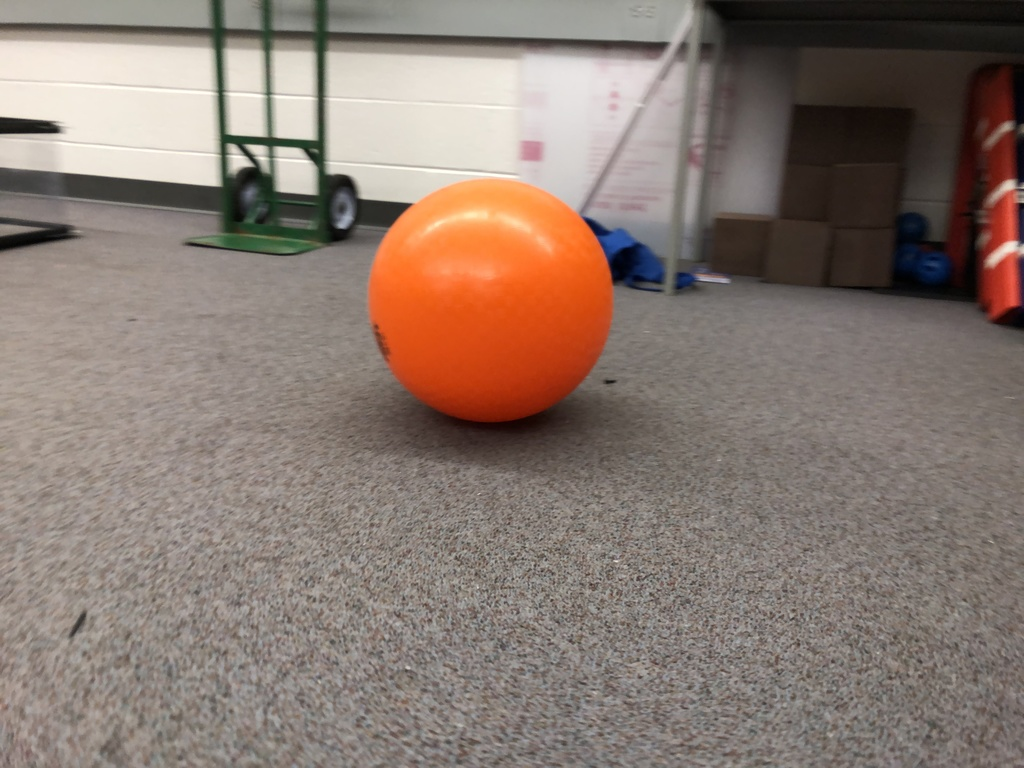cargo: (366, 171, 612, 427)
